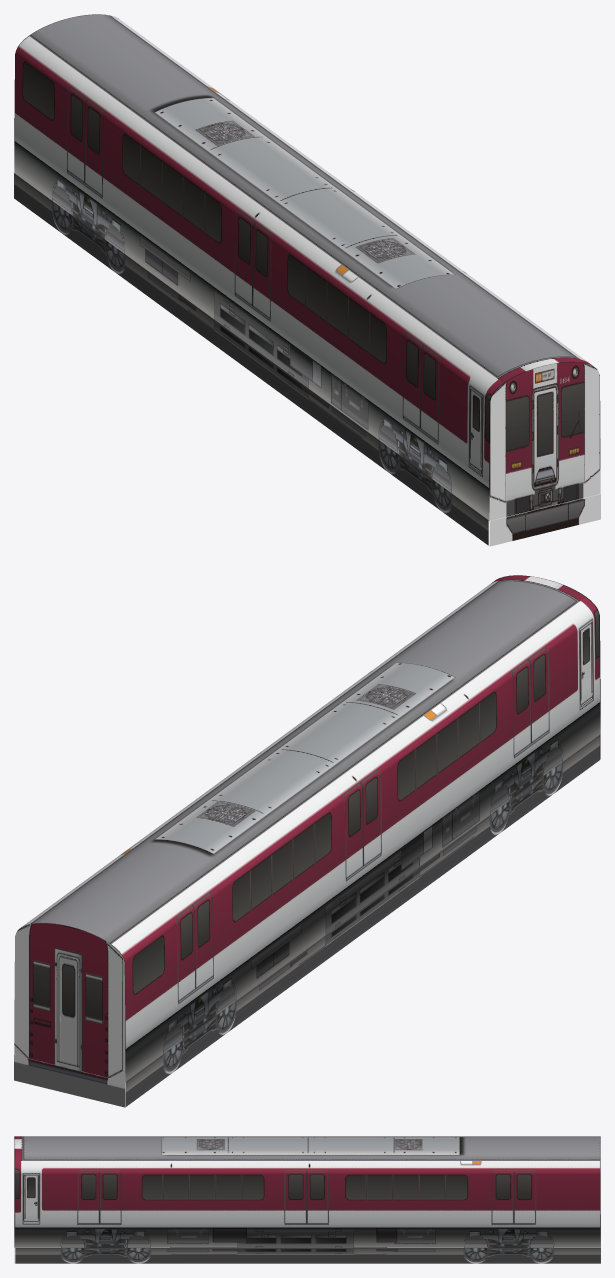
Rendered from car1.glb.
The picture shows the model from 3 angles, top to bottom: view 1: azimuth 30°, elevation 25°; view 2: azimuth 150°, elevation 25°; view 3: azimuth 270°, elevation 25°; orthographic projection. The views are drawn at different scales.
Visible parts, largest first — view 1: kintetsu-5200-car1; view 2: kintetsu-5200-car1; view 3: kintetsu-5200-car1.
Boxes of the visible parts, left/top/right/bottom form: kintetsu-5200-car1: left=14, top=14, right=600, bottom=546; kintetsu-5200-car1: left=14, top=575, right=600, bottom=1107; kintetsu-5200-car1: left=14, top=1136, right=600, bottom=1263.
Bounding box in the file's own units: 2.8 × 4.02 × 20.75.
Materials: 9 (8 with a texture image).
